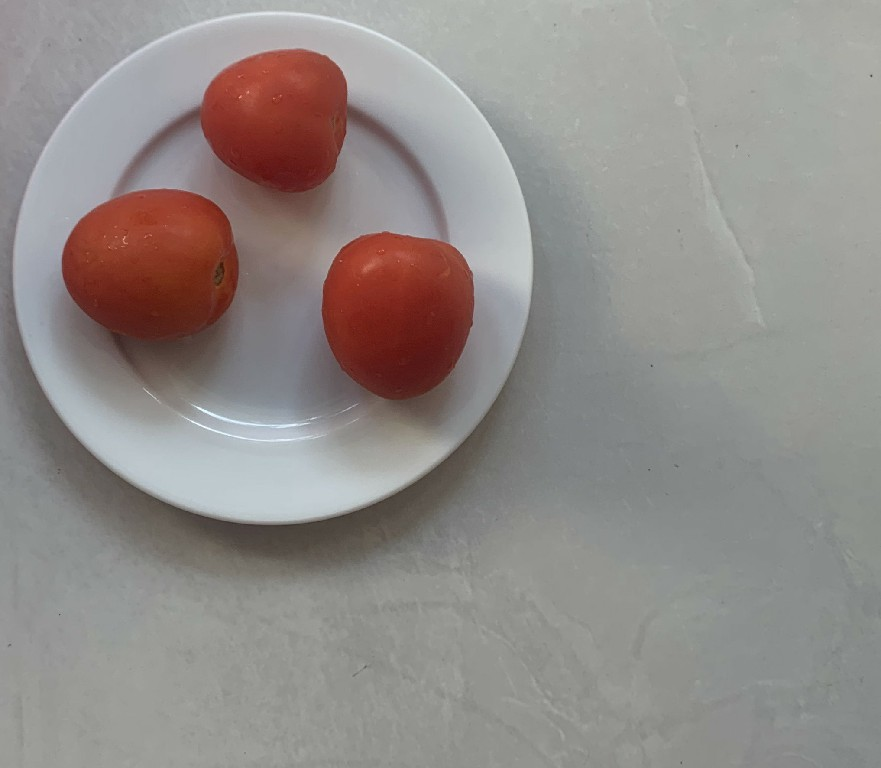OK: (303, 226, 476, 418), (52, 182, 240, 347), (194, 41, 353, 202)
